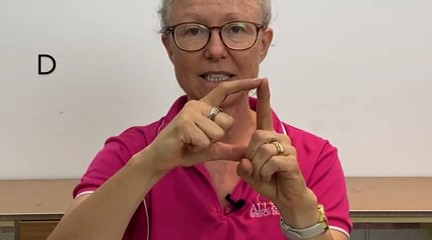D: (152, 69, 301, 197)
